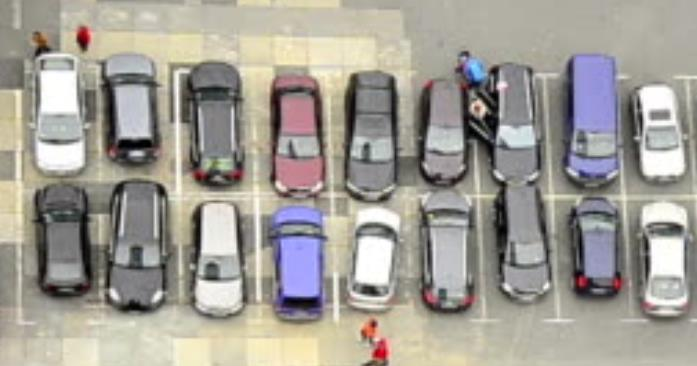car: (106, 180, 171, 317), (413, 186, 479, 314), (561, 55, 623, 189), (488, 183, 555, 305), (482, 58, 545, 187), (341, 69, 401, 202), (96, 52, 165, 167), (185, 59, 247, 186), (28, 51, 90, 177), (30, 181, 94, 300), (268, 74, 329, 197), (268, 206, 330, 322), (189, 199, 248, 319), (637, 199, 691, 320), (343, 205, 403, 313), (417, 77, 474, 187), (629, 81, 689, 182), (568, 195, 625, 301)
